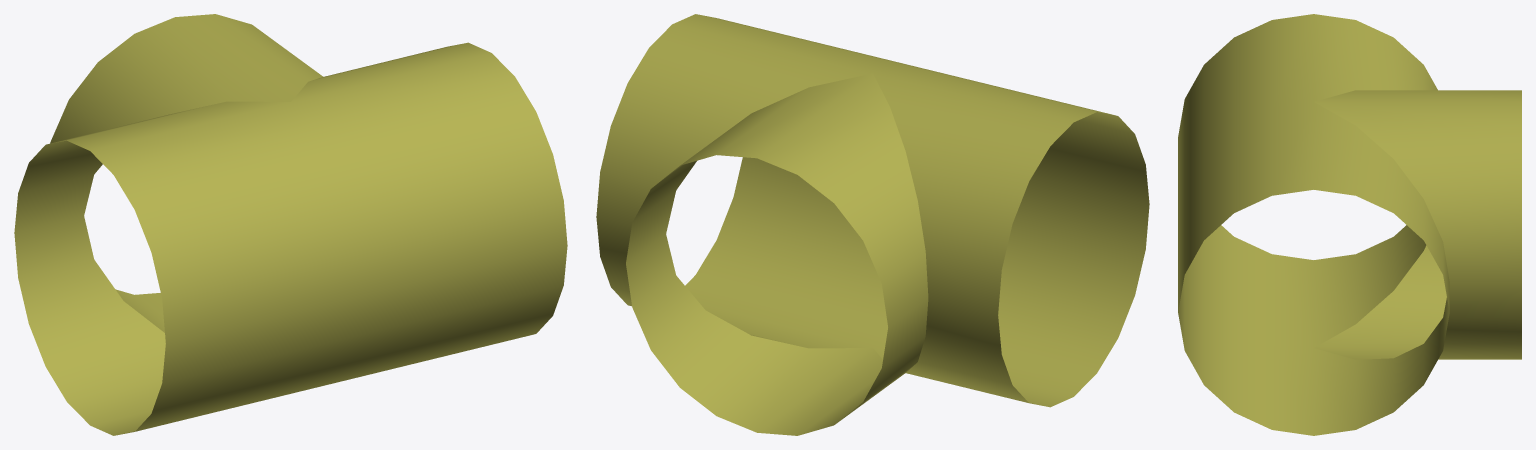
File: SM_Pipes_T.fbx
3 renders of one model, left to right at view 1: azimuth 30°, elevation 25°; view 2: azimuth 150°, elevation 25°; view 3: azimuth 270°, elevation 25°, orthographic. The views are drawn at different scales.
Parts seen in each view (by area): view 1: SM_Pipes_T; view 2: SM_Pipes_T; view 3: SM_Pipes_T.
Boxes of the visible parts, x1,y1,x2,y2 form: SM_Pipes_T: [14, 14, 567, 435]; SM_Pipes_T: [596, 14, 1149, 435]; SM_Pipes_T: [1178, 14, 1521, 435].
Size of the model in its own units: 500 by 327 by 413.
